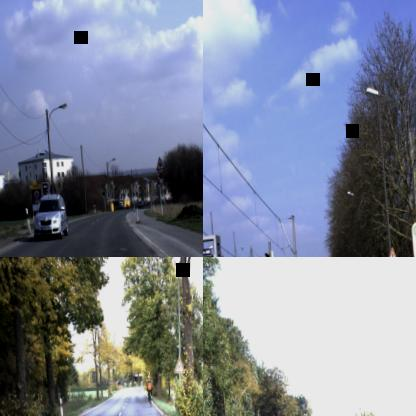DANGER: (386, 246, 398, 257)
bend: (172, 355, 184, 374)
priority at next intersection: (155, 154, 165, 170)
